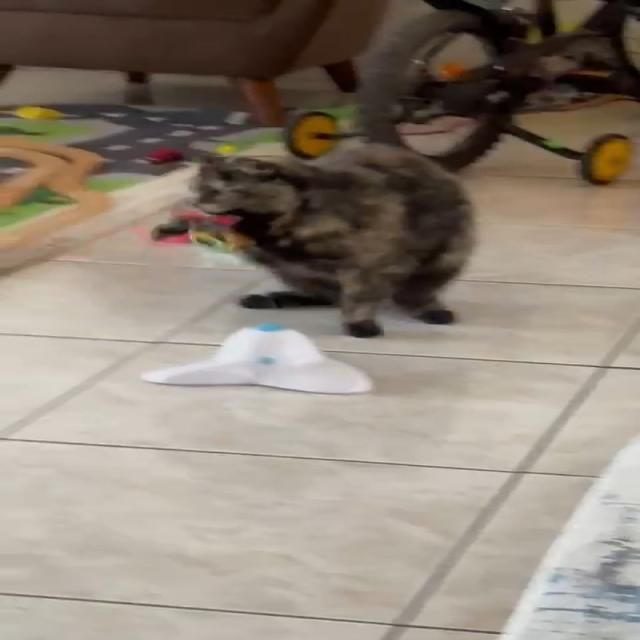authorized: (185, 137, 478, 338)
